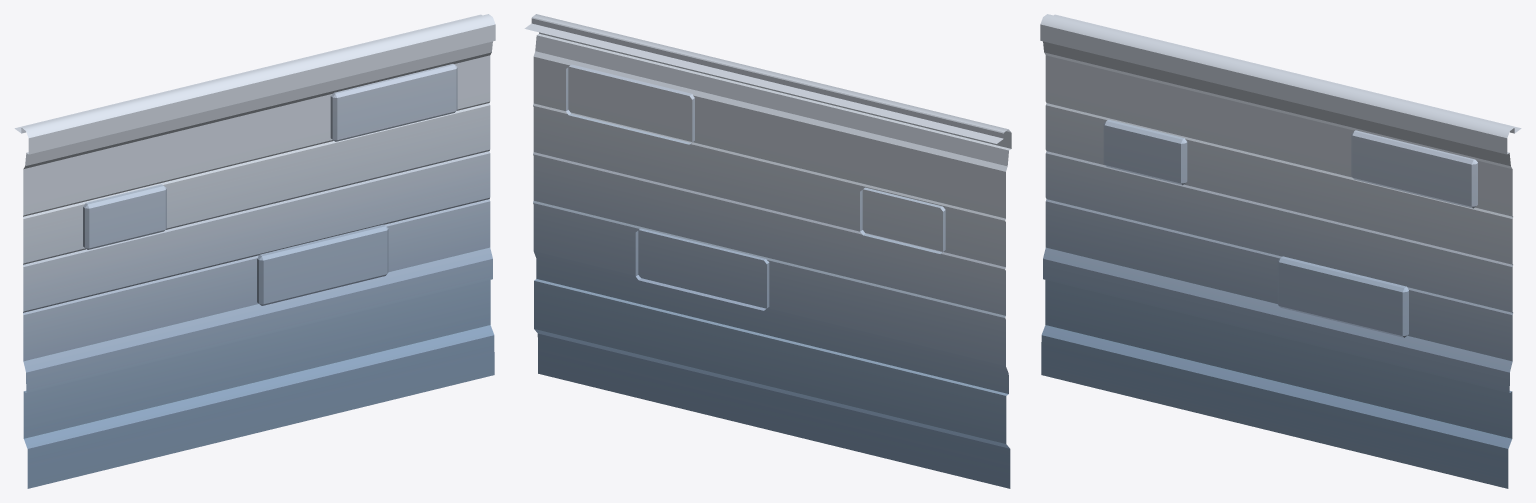
Rendered from Wall_01.fbx.
3 renders of one model, left to right at view 1: azimuth 30°, elevation 25°; view 2: azimuth 150°, elevation 25°; view 3: azimuth 330°, elevation 25°, orthographic.
Visible parts, largest first — view 1: Wall_01.001; view 2: Wall_01.001; view 3: Wall_01.001.
Boxes of the visible parts, x1,y1,x2,y2 form: Wall_01.001: (14,14,495,488); Wall_01.001: (524,14,1011,488); Wall_01.001: (1040,14,1521,488).
Bounding box in the file's own units: 400 × 292 × 21.71.
